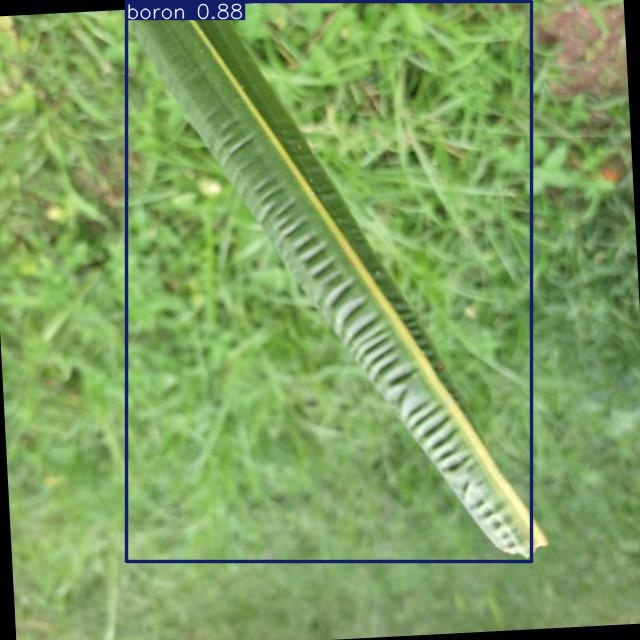nitrogen: (127, 2, 532, 562)
